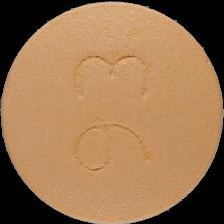0615-7725: (0, 0, 224, 224)
